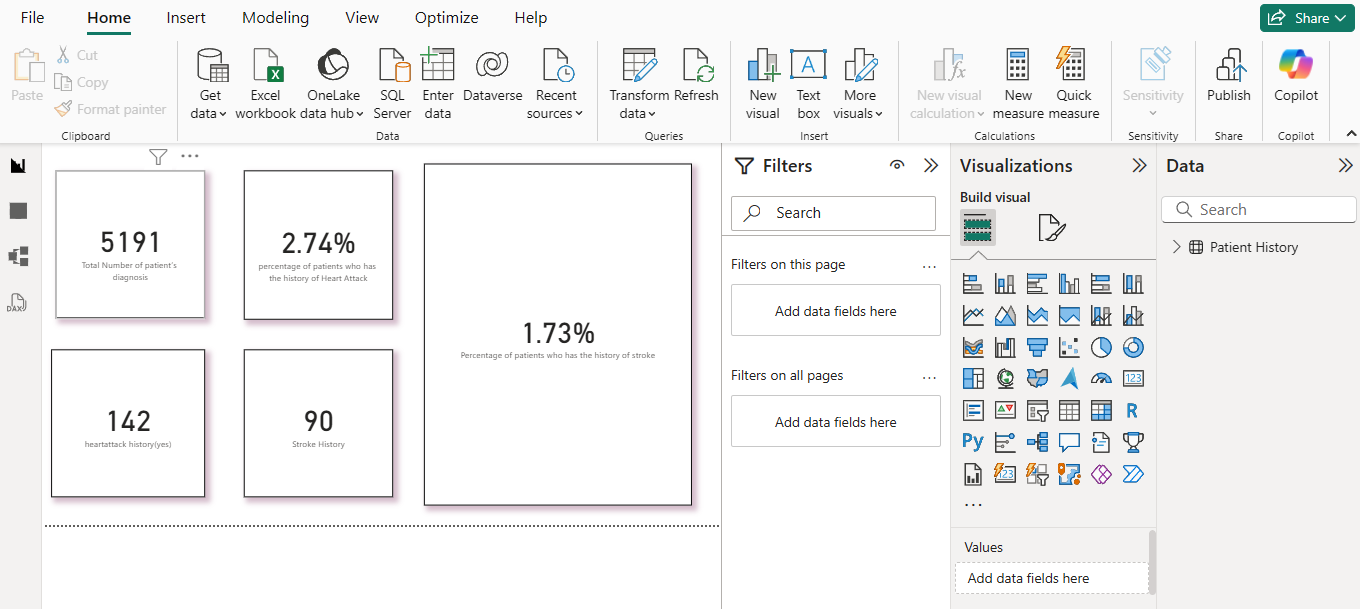

The dashboard page shown, as its layout file describes it:
{"tool":"powerbi","page":{"name":"Page 1","canvas":[1280,720],"ordinal":0},"visuals":[{"type":"card","fields":{"Values":["Patient History.Total Number of patient’s diagnosis"]},"box":[25.8,51.6,281.5,279.4],"z":0},{"type":"card","title":"Percentage of HeartAttack  Patients","fields":{"Values":["Patient History.percentage of patients who has the history of Heart Attack"]},"box":[380.4,51.6,281.5,281.5],"z":1},{"type":"card","fields":{"Values":["Patient History.heartattack history(yes)"]},"box":[17.2,389,290.1,279.4],"z":2},{"type":"card","fields":{"Values":["Patient History.Stroke History"]},"box":[380.4,389,281.5,279.4],"z":3},{"type":"card","fields":{"Values":["Patient History.Percentage of patients who has the history of stroke"]},"box":[719.9,38.7,505,644.7],"z":4}]}

Visuals, with their boxes on the page's 1280x720 design canvas (x1, y1, x2, y2). These are canvas units, not pixel positions in the 1360x609 screenshot, which may show the page scaled, cropped or inside an application window:
card - Patient History.Total Number of patient’s diagnosis: x1=26, y1=52, x2=307, y2=331
"Percentage of HeartAttack  Patients" card: x1=380, y1=52, x2=662, y2=333
card - Patient History.heartattack history(yes): x1=17, y1=389, x2=307, y2=668
card - Patient History.Stroke History: x1=380, y1=389, x2=662, y2=668
card - Patient History.Percentage of patients who has the history of stroke: x1=720, y1=39, x2=1225, y2=683
